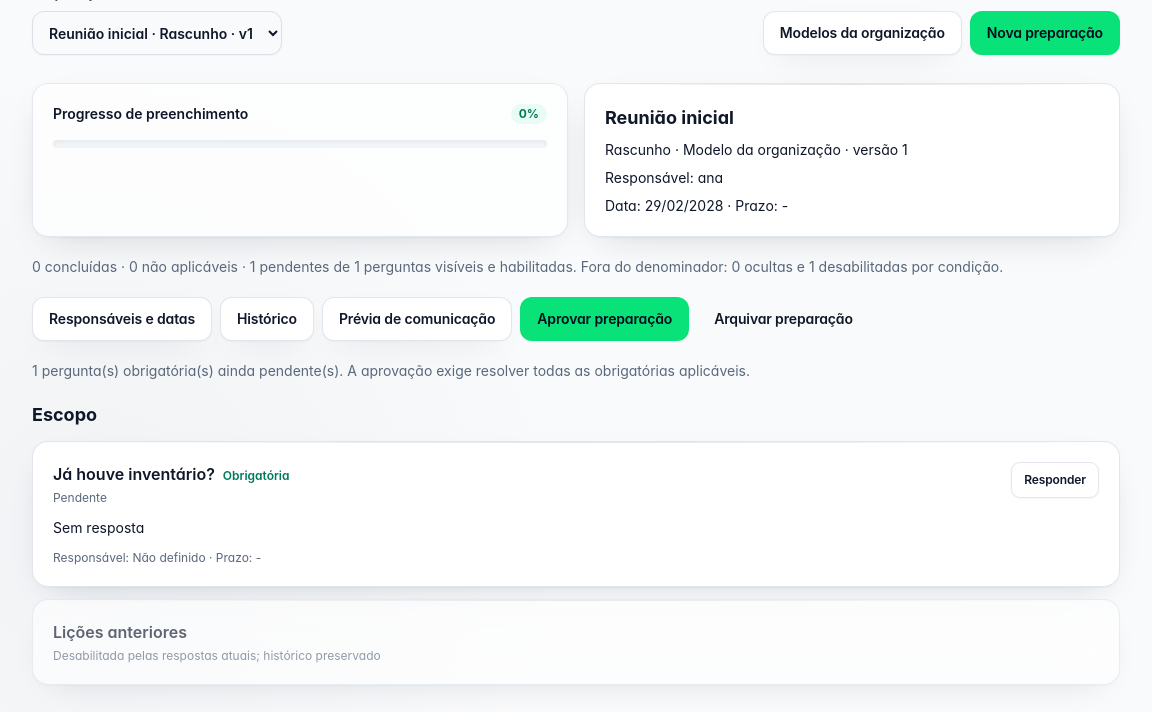
Project preparation UI › persists a typed answer with revision and refreshes enablement from the backend
The width and height of the screenshot is (1152, 712).
(page scrolled)
Click the button with aria-label "Responder: Já houve inventário?".
click(1055, 480)  # box [1011,462,1099,498]
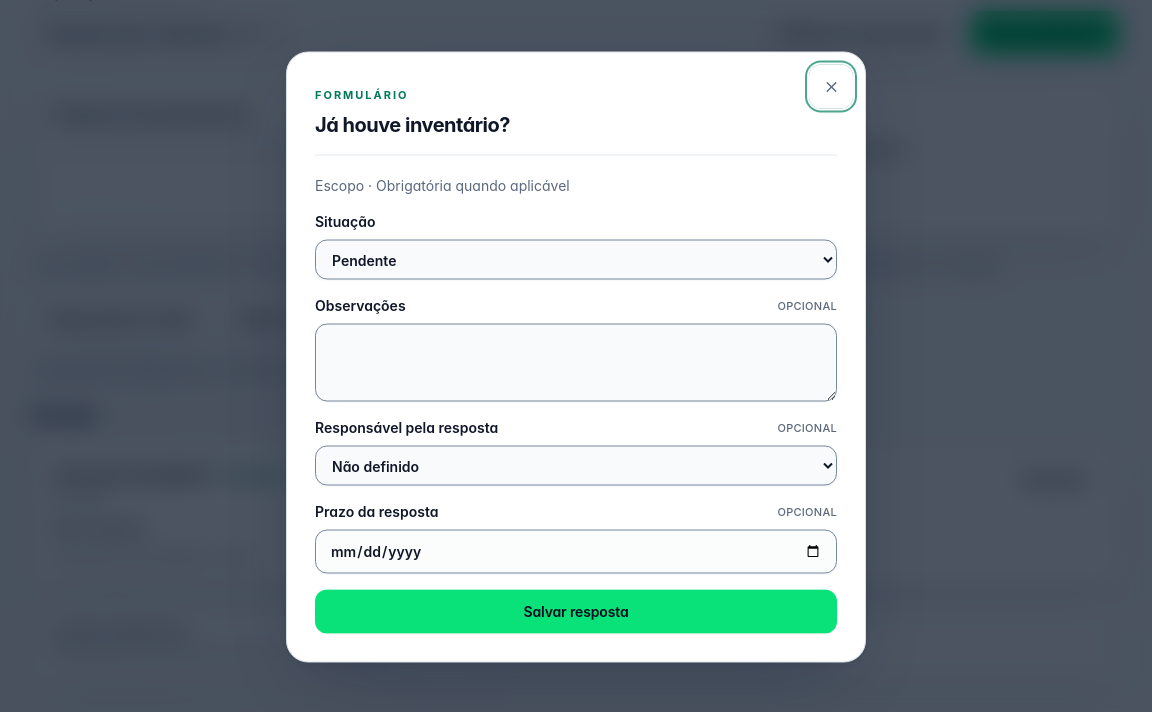
Select "Concluído" in the dropdown labelled "Situação" at point(576, 260), box [315,240,837,280]
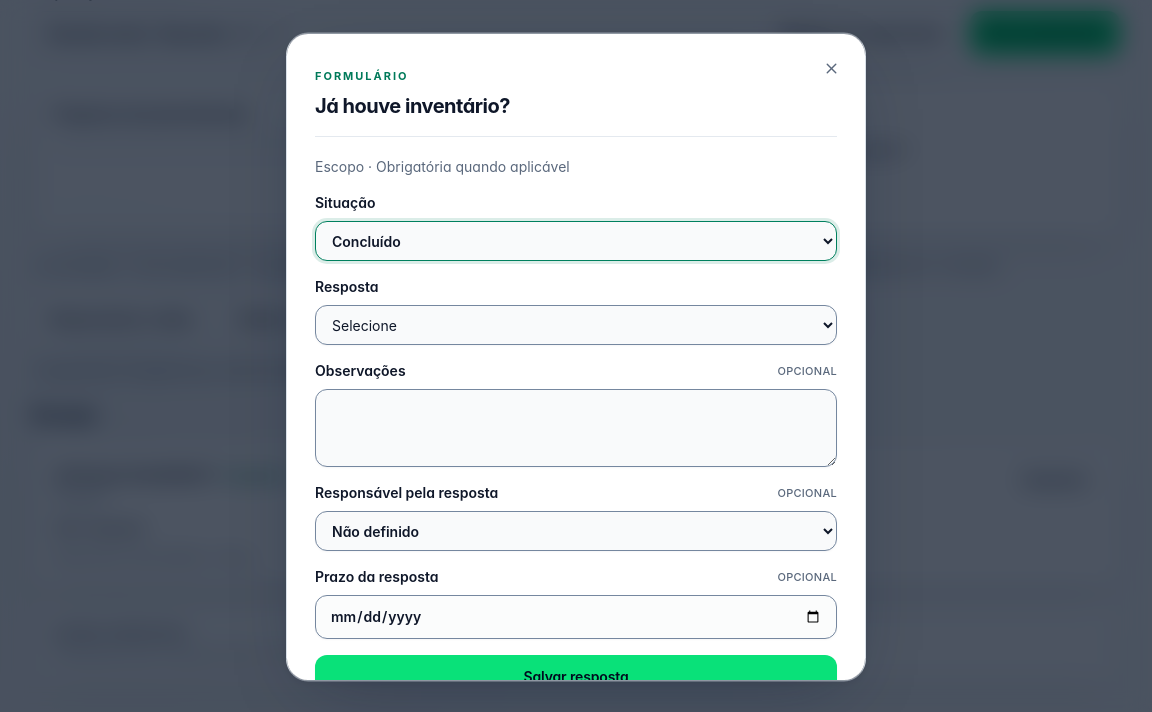
Select "Sim" in the dropdown named "Resposta" at point(576, 325), box [315,305,837,345]
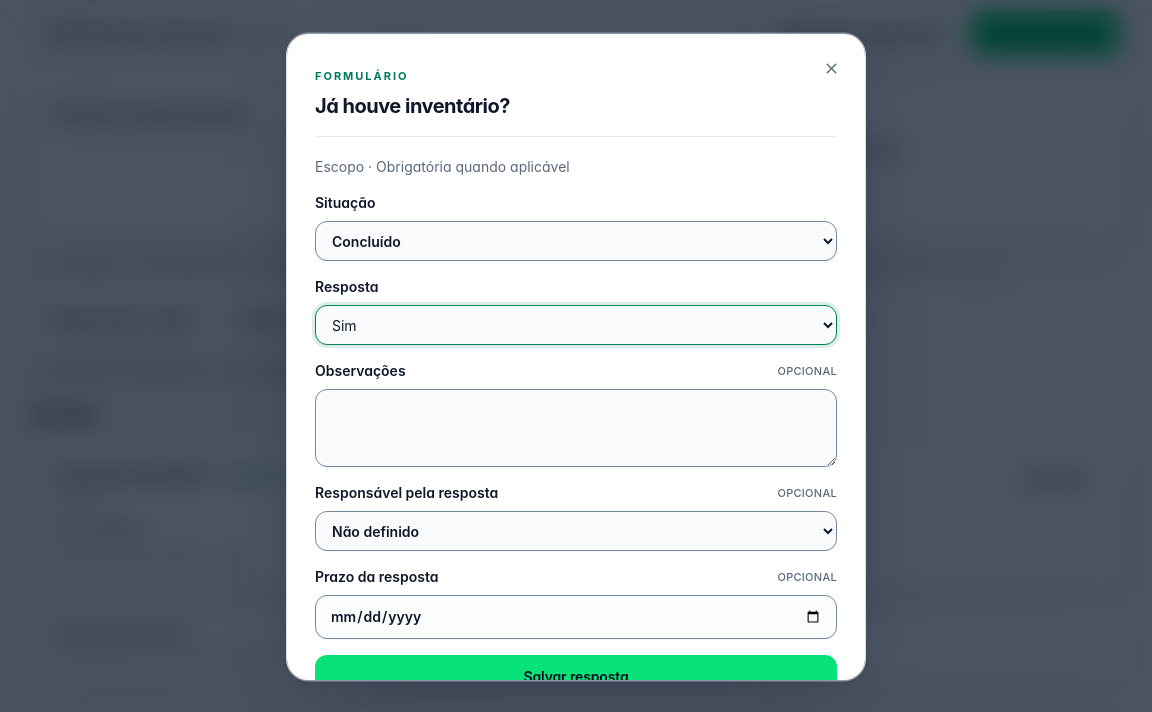
Click the button "Salvar resposta".
click(576, 677)  # box [315,655,837,699]
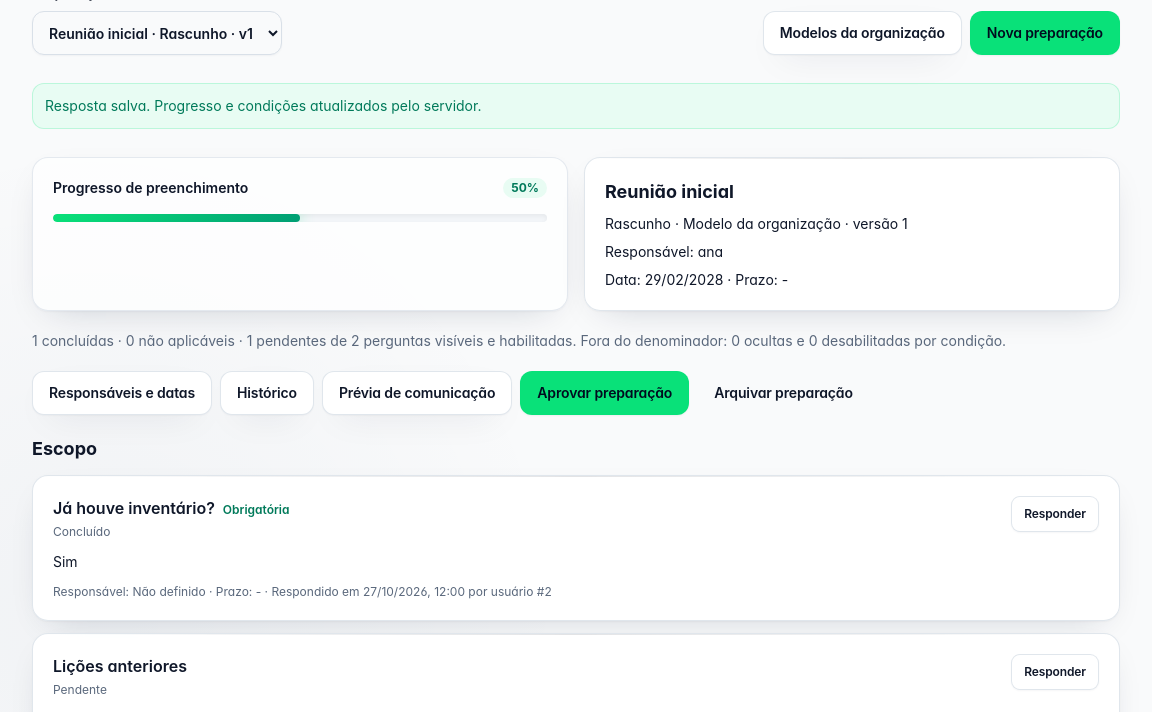
Expected: the button with aria-label "Responder: Lições anteriores" is shown, [1011,654,1099,690]
Expected: the text "Resposta salva. Progresso e condições atualizados pelo servidor." is shown, [32,83,1120,129]
